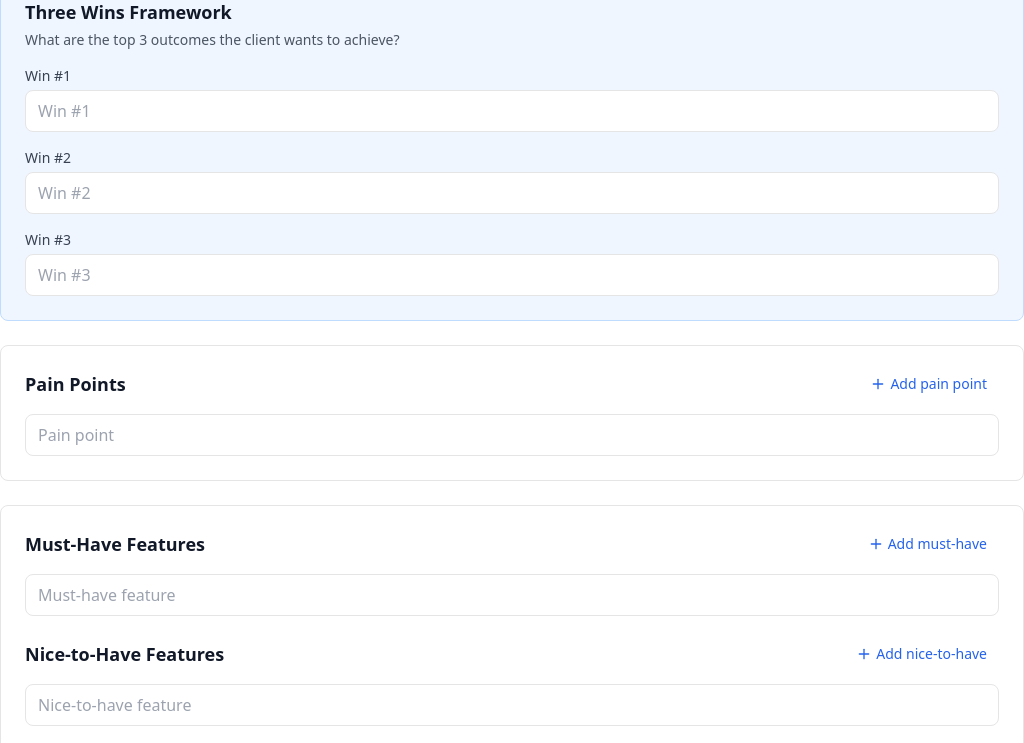
Test case: ClientInfoForm › Pain Points Section › should allow adding multiple pain points
(page scrolled)
Expected: the number of fields with placeholder "Pain point" is 1, [25, 414, 999, 456]
Click the button "Add pain point".
click(929, 384)  # box [858, 370, 999, 398]
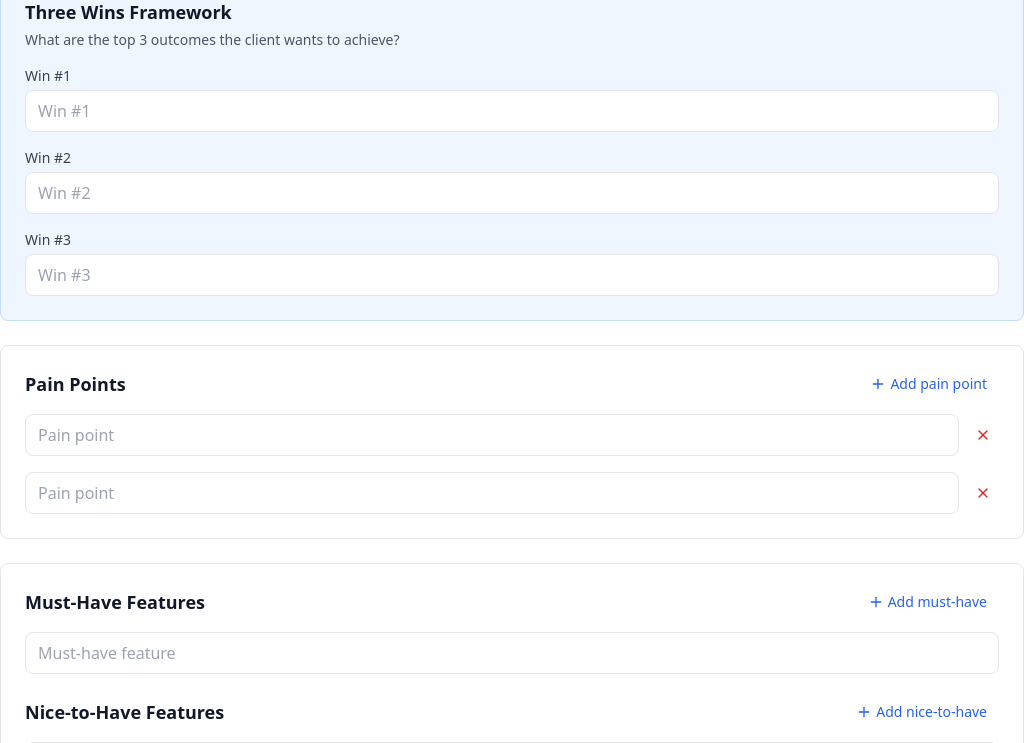
Now the number of fields with placeholder "Pain point" is 2, box [25, 414, 959, 456]; [25, 472, 959, 514]
